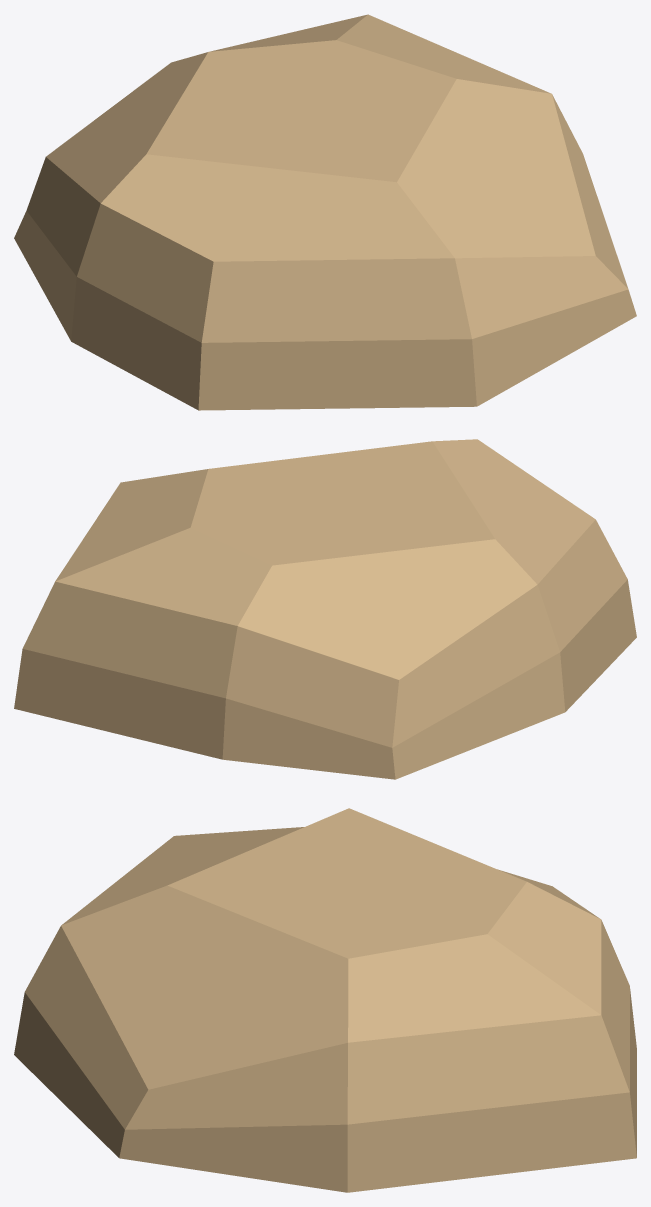
Rendered from SandRock1.fbx.
3 views of the same model, one above another, from view 1: azimuth 30°, elevation 25°; view 2: azimuth 150°, elevation 25°; view 3: azimuth 270°, elevation 25° (orthographic). The views are drawn at different scales.
Parts seen in each view (by area): view 1: SandRock1; view 2: SandRock1; view 3: SandRock1.
Part boxes in pixels (x1=…): SandRock1: x1=14, y1=14, x2=636, y2=410; SandRock1: x1=14, y1=439, x2=636, y2=779; SandRock1: x1=14, y1=808, x2=636, y2=1192.
Size of the model in its own units: 139 by 42.97 by 144.
